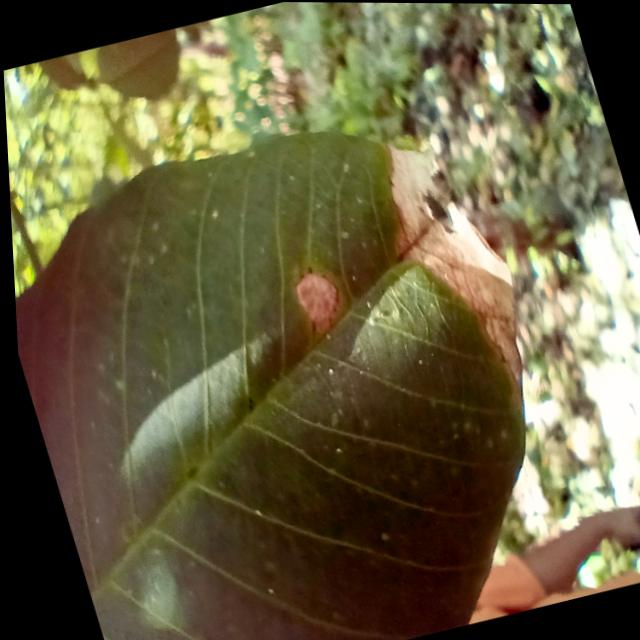Leaf-Blight: (362, 120, 537, 403), (287, 269, 343, 337)
